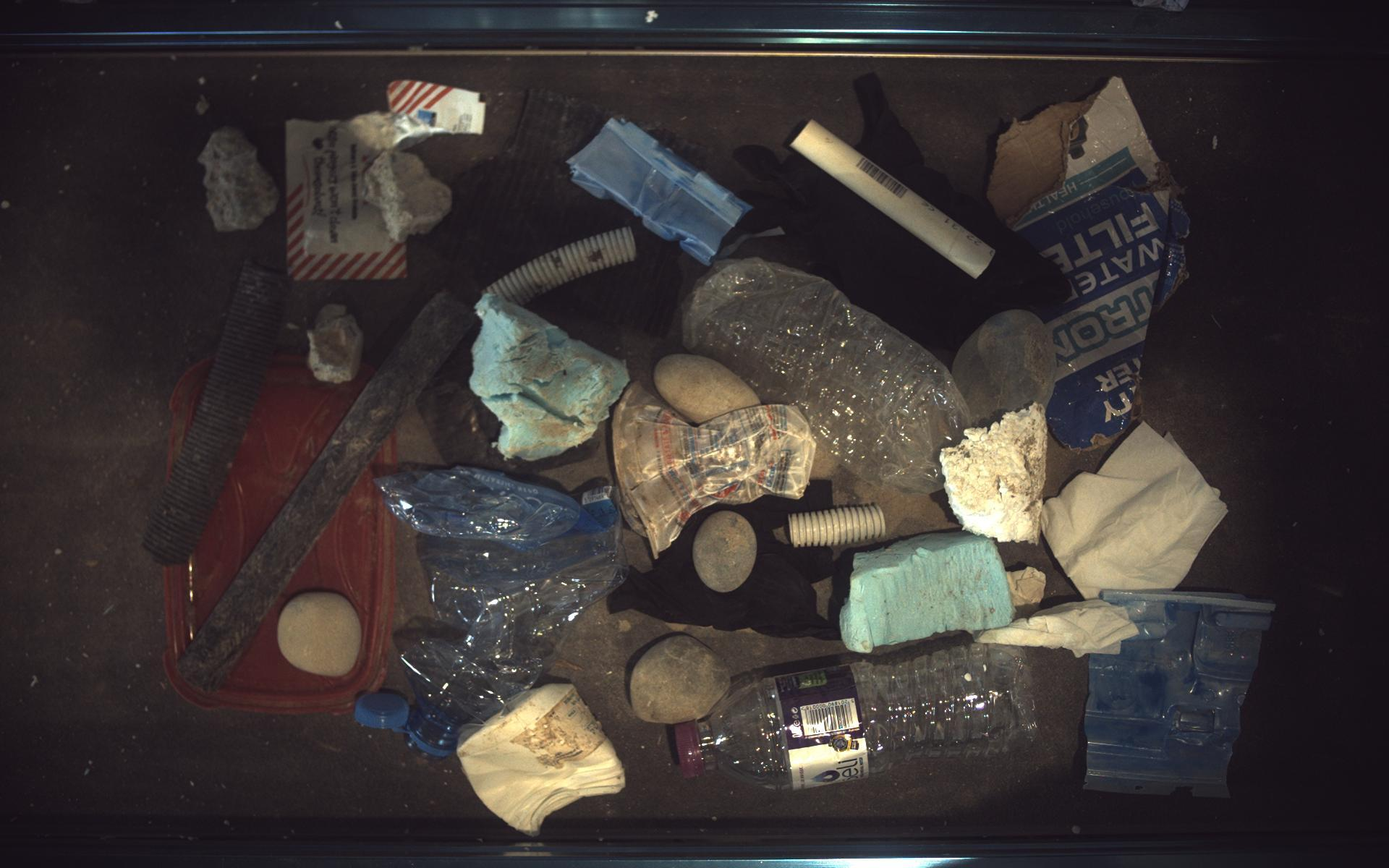concrete: (197, 125, 279, 231), (364, 149, 451, 242), (307, 304, 363, 383)
foam: (470, 291, 629, 461), (841, 532, 1016, 654), (942, 403, 1050, 544)
general_w: (736, 72, 1071, 356), (163, 354, 397, 715), (354, 467, 627, 759), (990, 75, 1193, 448), (684, 258, 972, 494), (675, 644, 1038, 791), (286, 80, 486, 281), (1087, 592, 1276, 799), (609, 480, 838, 639), (613, 382, 817, 556), (1044, 422, 1230, 600), (568, 117, 786, 264), (456, 685, 625, 835), (979, 599, 1140, 658), (167, 359, 210, 470), (1008, 567, 1048, 619)
pipes: (177, 292, 475, 693), (142, 260, 286, 566), (791, 119, 997, 278), (485, 226, 637, 305), (789, 504, 888, 548)
plastic: (431, 89, 684, 336), (417, 333, 603, 475), (643, 125, 710, 169)
stone: (953, 310, 1059, 426), (630, 635, 731, 725), (655, 354, 760, 424), (277, 592, 361, 678), (694, 511, 758, 594)
